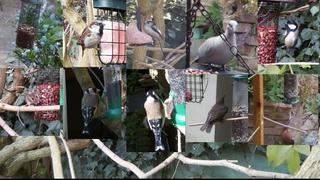collared dove: (190, 20, 238, 72)
goldfinch: (144, 89, 165, 151), (81, 87, 102, 134)
great tit: (273, 20, 299, 52)
long tailed tit: (144, 20, 166, 62)
mouse: (17, 88, 40, 127)
sparrow: (76, 20, 106, 58)
starling: (200, 94, 228, 134)
